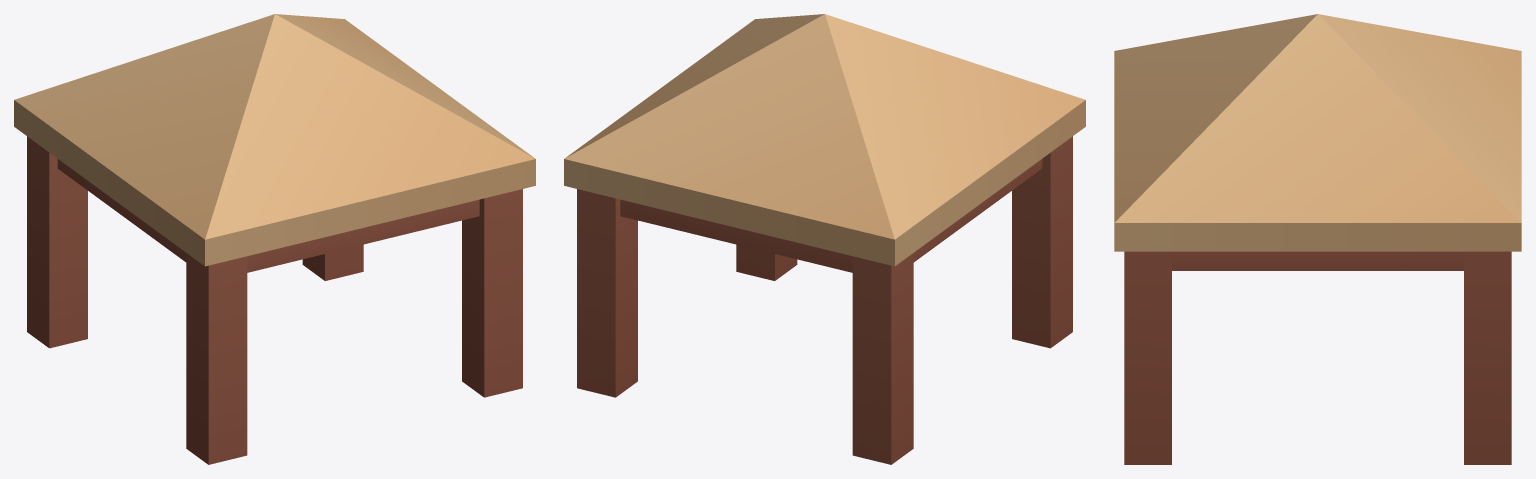
The model's file is tent.glb.
3 views of the same model, side by side, from view 1: azimuth 30°, elevation 25°; view 2: azimuth 150°, elevation 25°; view 3: azimuth 270°, elevation 25° (orthographic). The views are drawn at different scales.
Visible parts, largest first — view 1: tent; view 2: tent; view 3: tent.
Boxes of the visible parts, bbox=[...] form: tent: bbox=[14, 14, 535, 464]; tent: bbox=[564, 14, 1085, 464]; tent: bbox=[1114, 14, 1521, 464].
Bounding box in the file's own units: 0.516 × 0.516 × 0.516.
Materials: 1 (1 with a texture image).
